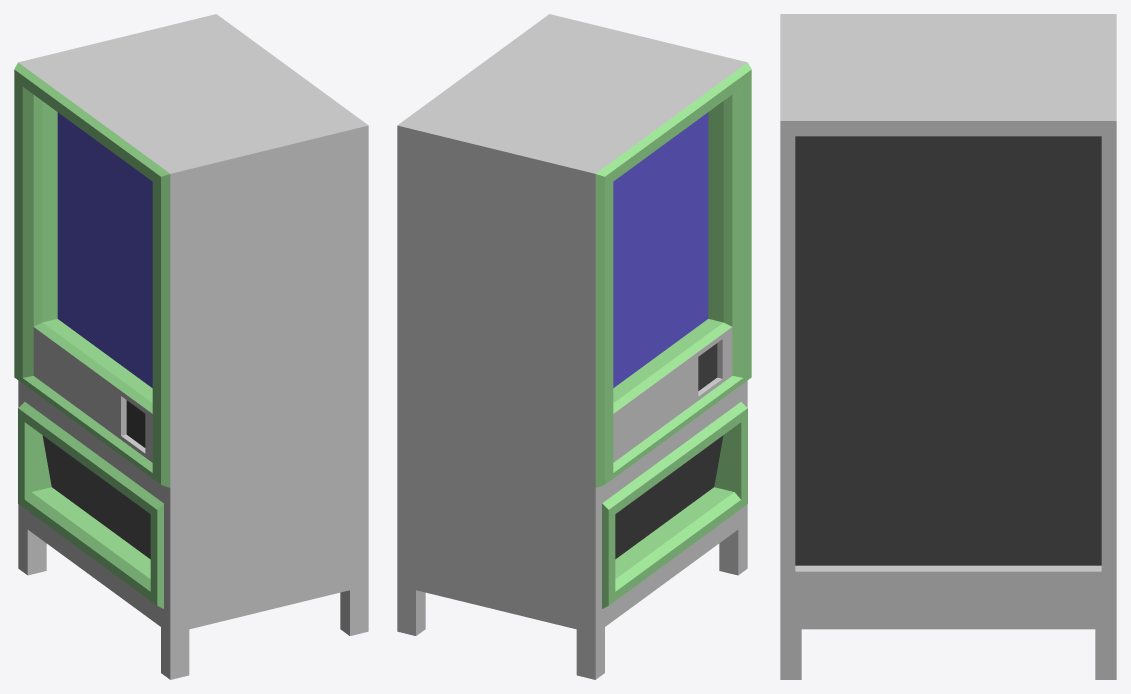
File: Vending_Machine.fbx
3 renders of one model, left to right at view 1: azimuth 30°, elevation 25°; view 2: azimuth 150°, elevation 25°; view 3: azimuth 270°, elevation 25°, orthographic. The views are drawn at different scales.
Parts seen in each view (by area): view 1: Vending_Machine; view 2: Vending_Machine; view 3: Vending_Machine.
Part boxes in pixels (x1,y1,x2,y2): Vending_Machine: (14,14,368,679); Vending_Machine: (397,14,751,679); Vending_Machine: (780,14,1116,679).
Size of the model in its own units: 93.22 by 220 by 120.
